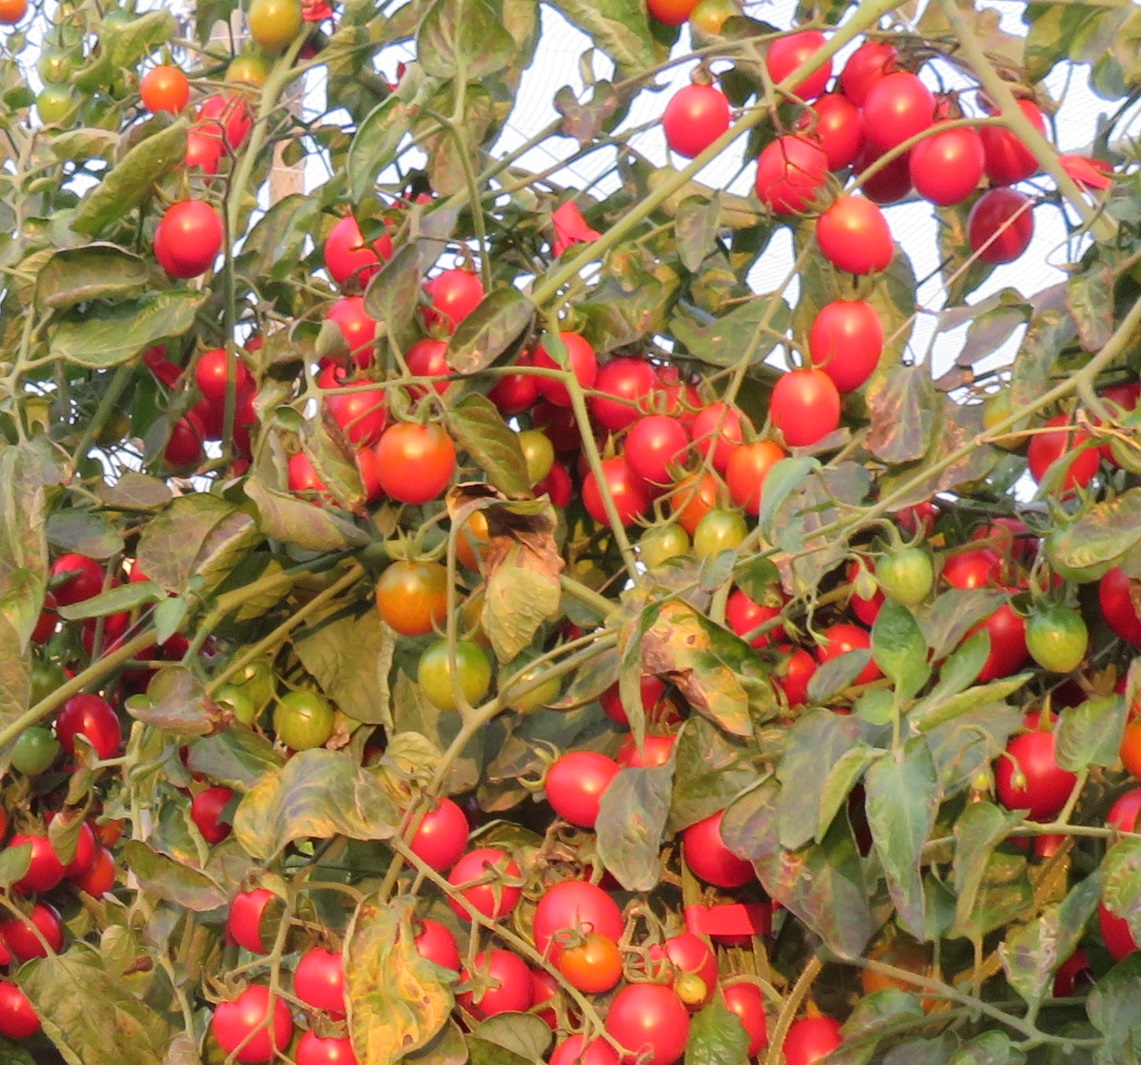green: (416, 641, 493, 705), (1020, 606, 1092, 671), (267, 690, 339, 751), (877, 550, 940, 611), (631, 529, 692, 586), (245, 1, 305, 54), (32, 84, 85, 139), (695, 515, 756, 562), (40, 49, 81, 79)
orange: (364, 560, 450, 646), (376, 420, 453, 506), (730, 443, 780, 510), (558, 933, 619, 988), (142, 64, 186, 115)
red: (811, 294, 888, 404), (594, 983, 689, 1059), (813, 188, 896, 274), (1002, 729, 1085, 813), (654, 84, 742, 157), (218, 982, 295, 1061), (913, 119, 986, 201), (542, 746, 622, 820), (155, 195, 239, 264), (685, 812, 763, 884), (751, 148, 826, 221), (969, 184, 1032, 268), (770, 370, 834, 451), (407, 800, 477, 873), (59, 695, 128, 761), (619, 422, 685, 489), (864, 78, 930, 143), (199, 346, 238, 396)
